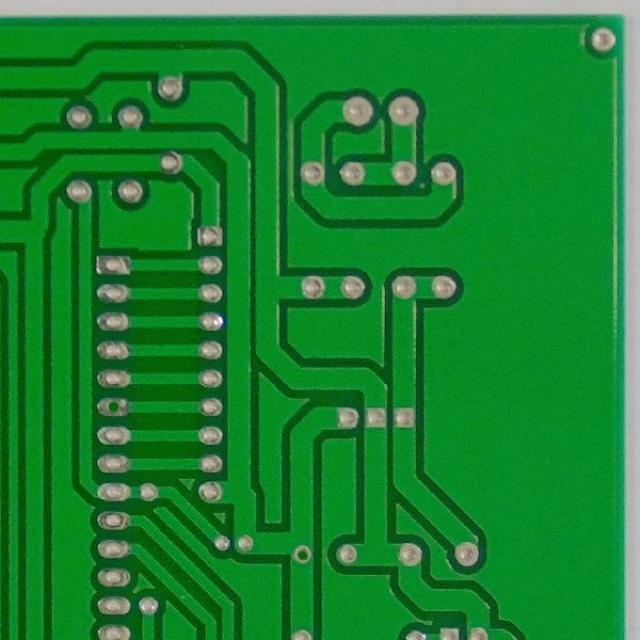missing_hole: (102, 395, 134, 422), (291, 543, 314, 567)
